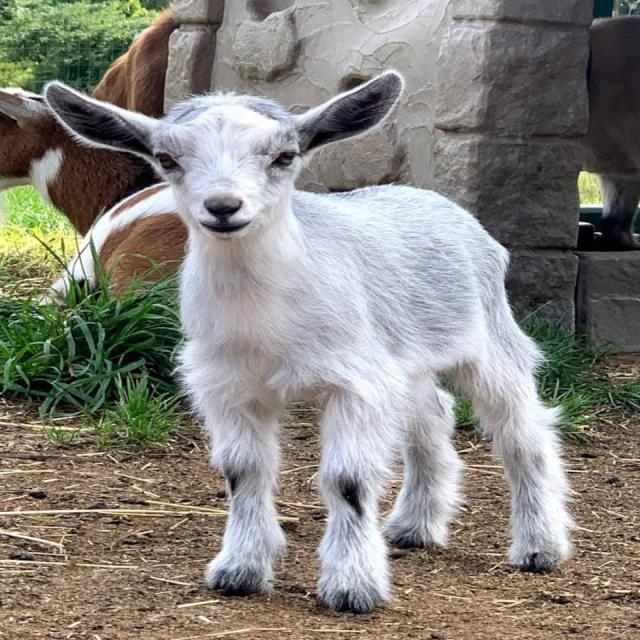Goat: (39, 74, 580, 608)
